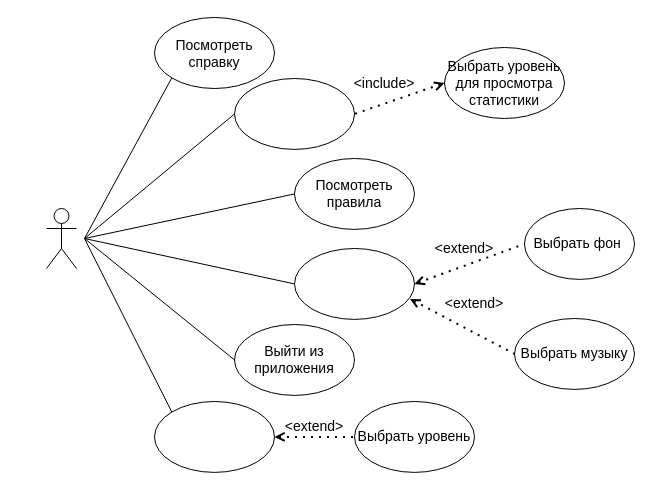
The diagram is 652 pixels wide and 490 high, and some of its shapes have lost their labels. Here are the shapes that lost their labels. From the top down, the centre of each, then its label:
the point at 294,113: Посмотреть статистику
the point at 61,238: Пользователь
the point at 354,283: Изменить опции
the point at 214,436: Играть
